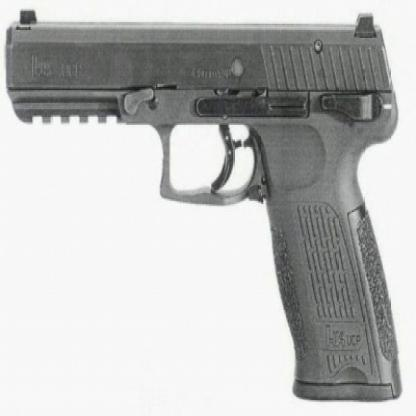Guns: (2, 5, 405, 403)
